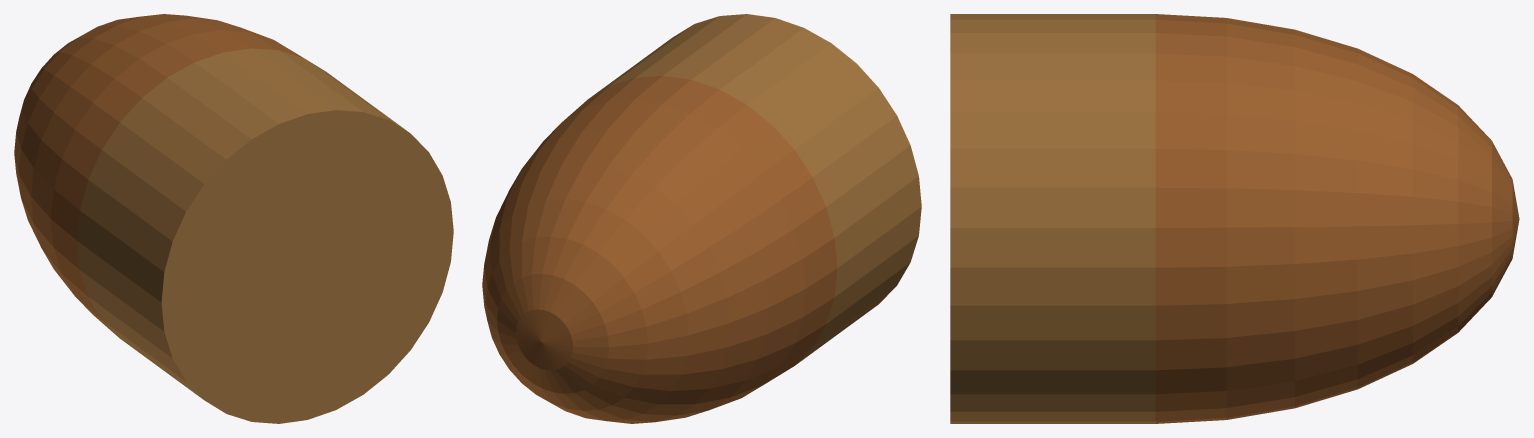
The model's file is UMP Bullet.fbx.
3 views of the same model, side by side, from view 1: azimuth 30°, elevation 25°; view 2: azimuth 150°, elevation 25°; view 3: azimuth 270°, elevation 25° (orthographic). The views are drawn at different scales.
Parts seen in each view (by area): view 1: Cylinder, Sphere; view 2: Sphere, Cylinder; view 3: Sphere, Cylinder.
Boxes of the visible parts, bbox=[...] form: Cylinder: bbox=[77, 48, 453, 423]; Sphere: bbox=[14, 14, 303, 338]; Sphere: bbox=[482, 75, 837, 423]; Cylinder: bbox=[589, 14, 921, 365]; Sphere: bbox=[1155, 14, 1519, 423]; Cylinder: bbox=[950, 14, 1155, 423].
Bounding box in the file's own units: 200 × 200 × 277.
